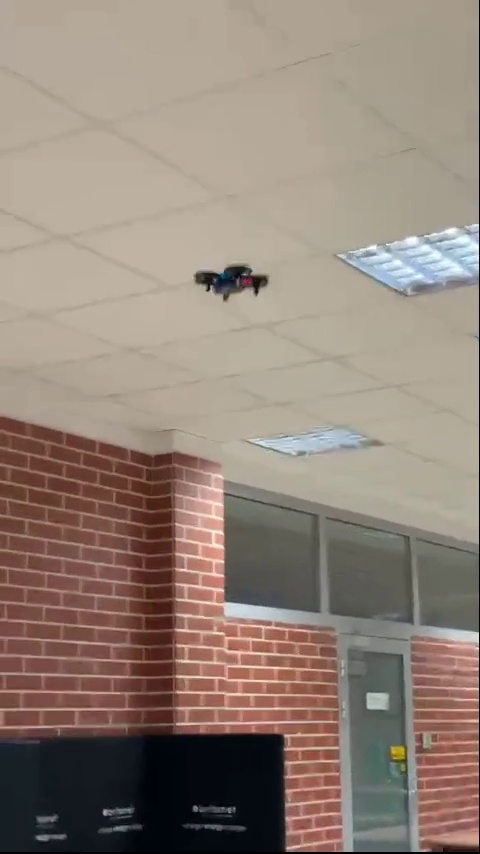drone: (191, 264, 270, 303)
